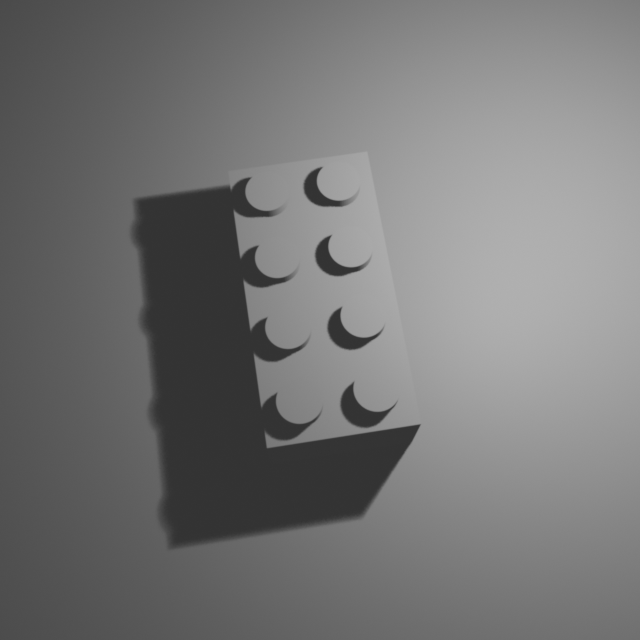lego_2x4: (227, 144, 423, 464)
